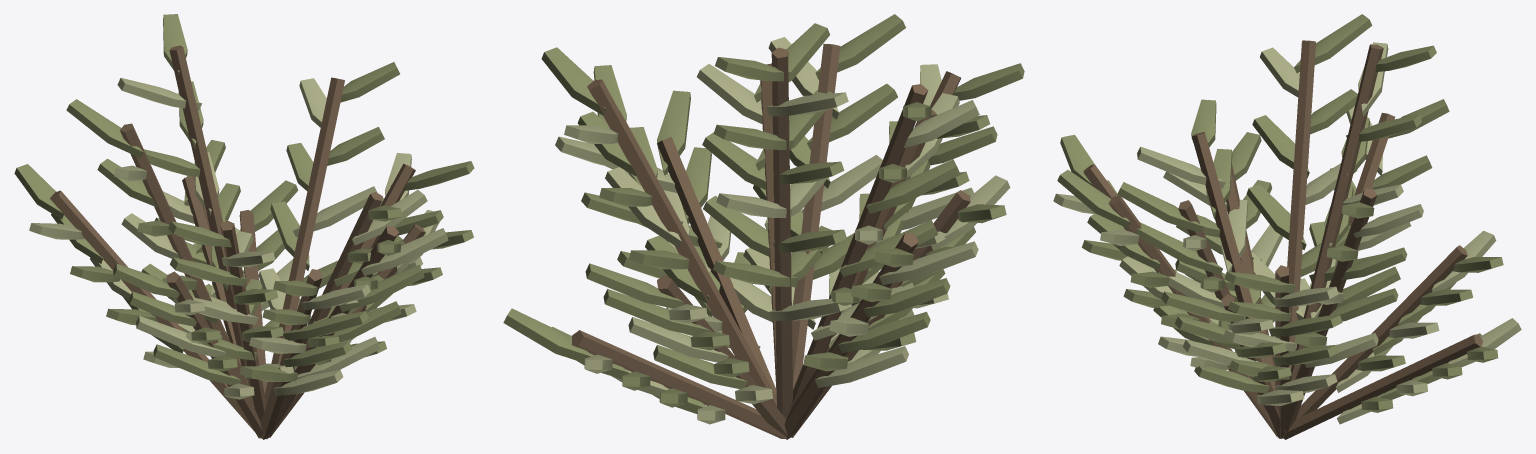
The model's file is sage.glb.
3 renders of one model, left to right at view 1: azimuth 30°, elevation 25°; view 2: azimuth 150°, elevation 25°; view 3: azimuth 270°, elevation 25°, orthographic. The views are drawn at different scales.
Parts seen in each view (by area): view 1: twig45, twig63, twig36, twig108, twig9, twig27, leaf44, twig54, silver106, twig81, leaf83, twig18 (+50 smaller); view 2: twig45, twig63, twig99, twig36, twig72, twig90, twig108, leaf41, leaf98, leaf107, leaf26, leaf105 (+66 smaller); view 3: twig36, twig63, twig90, twig18, twig9, twig45, twig99, leaf35, leaf107, leaf33, leaf44, leaf39 (+63 smaller).
Part boxes in pixels (x1=…): twig45: x1=265, y1=77, x2=344, y2=403; twig63: x1=169, y1=45, x2=247, y2=379; twig36: x1=120, y1=123, x2=262, y2=437; twig108: x1=50, y1=190, x2=261, y2=438; twig9: x1=220, y1=220, x2=268, y2=438; twig27: x1=268, y1=192, x2=382, y2=437; leaf44: x1=66, y1=99, x2=143, y2=157; twig54: x1=260, y1=269, x2=322, y2=439; silver106: x1=361, y1=228, x2=448, y2=275; twig81: x1=166, y1=271, x2=266, y2=438; leaf83: x1=153, y1=344, x2=241, y2=385; twig18: x1=182, y1=176, x2=241, y2=365; twig45: x1=587, y1=79, x2=776, y2=407; twig63: x1=771, y1=47, x2=793, y2=435; twig99: x1=792, y1=44, x2=840, y2=389; twig36: x1=789, y1=84, x2=928, y2=437; twig72: x1=657, y1=137, x2=776, y2=395; twig90: x1=571, y1=330, x2=786, y2=438; twig108: x1=784, y1=233, x2=918, y2=439; leaf41: x1=866, y1=159, x2=960, y2=213; leaf98: x1=503, y1=308, x2=592, y2=362; leaf107: x1=815, y1=14, x2=905, y2=79; leaf26: x1=585, y1=263, x2=683, y2=308; leaf105: x1=807, y1=83, x2=897, y2=149; twig36: x1=1287, y1=40, x2=1315, y2=370; twig63: x1=1289, y1=44, x2=1383, y2=381; twig90: x1=1283, y1=334, x2=1482, y2=439; twig18: x1=1296, y1=245, x2=1467, y2=418; twig9: x1=1191, y1=132, x2=1275, y2=390; twig45: x1=1283, y1=188, x2=1377, y2=438; twig99: x1=1108, y1=195, x2=1276, y2=434; leaf35: x1=1117, y1=182, x2=1203, y2=232; leaf107: x1=1057, y1=170, x2=1130, y2=228; leaf33: x1=1136, y1=222, x2=1222, y2=274; leaf44: x1=1294, y1=14, x2=1372, y2=73; leaf39: x1=1246, y1=184, x2=1306, y2=250.
Size of the model in its own units: 0.6492 by 0.6093 by 0.6809.
